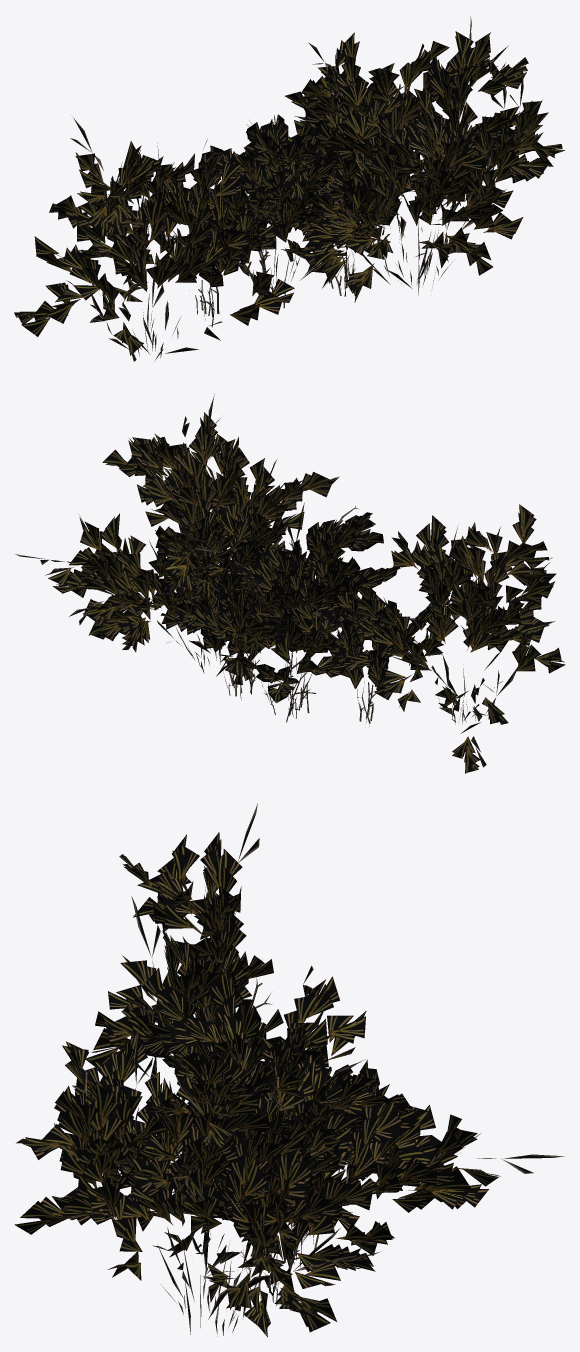
Rendered from ph_wild_rooibos_bush.glb.
3 views of the same model, one above another, from view 1: azimuth 30°, elevation 25°; view 2: azimuth 150°, elevation 25°; view 3: azimuth 270°, elevation 25° (orthographic). The views are drawn at different scales.
Visible parts, largest first — view 1: v0, v1, v2; view 2: v0, v1, v2; view 3: v0, v1, v2.
Part boxes in pixels (x1=…): v0: x1=14, y1=16, x2=564, y2=361; v1: x1=183, y1=114, x2=342, y2=308; v2: x1=170, y1=83, x2=428, y2=327; v0: x1=15, y1=393, x2=565, y2=773; v1: x1=169, y1=506, x2=400, y2=722; v2: x1=155, y1=507, x2=432, y2=726; v0: x1=14, y1=803, x2=564, y2=1337; v1: x1=138, y1=968, x2=441, y2=1268; v2: x1=170, y1=1019, x2=415, y2=1305.
Bounding box in the file's own units: 1.17 × 0.5418 × 0.8388.
Materials: 3 (3 with a texture image).
